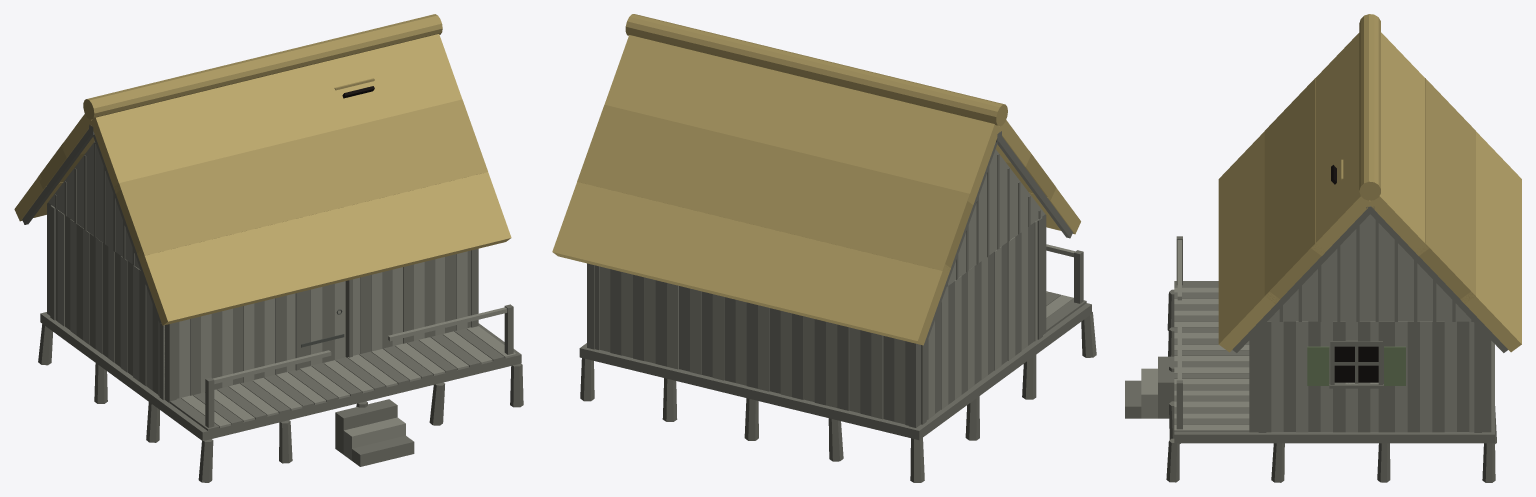
The model's file is greyfen-stilt-house.glb.
The picture shows the model from 3 angles, left to right: view 1: azimuth 30°, elevation 25°; view 2: azimuth 150°, elevation 25°; view 3: azimuth 270°, elevation 25°; orthographic projection. The views are drawn at different scales.
Visible parts, largest first — view 1: Body_Thatch, Body_WoodDark, Body_ThatchDark, Body_Wood; view 2: Body_Thatch, Body_ThatchDark, Body_WoodDark, Body_Wood; view 3: Body_Thatch, Body_WoodDark, Body_Wood, Body_ThatchDark, Body_Paint, Body_Dark.
Part boxes in pixels (<box>): Body_Thatch: <box>14,34,511,325</box>; Body_WoodDark: <box>22,124,523,482</box>; Body_ThatchDark: <box>38,14,487,259</box>; Body_Wood: <box>48,141,516,460</box>; Body_Thatch: <box>552,35,1080,345</box>; Body_ThatchDark: <box>577,14,1056,270</box>; Body_WoodDark: <box>579,131,1096,482</box>; Body_Wood: <box>599,149,1075,424</box>; Body_Thatch: <box>1218,32,1521,352</box>; Body_WoodDark: <box>1125,206,1507,482</box>; Body_Wood: <box>1141,214,1474,432</box>; Body_ThatchDark: <box>1264,14,1475,303</box>; Body_Paint: <box>1307,346,1405,385</box>; Body_Dark: <box>1331,165,1378,382</box>.
Bounding box in the file's own units: 7 × 6 × 7.
